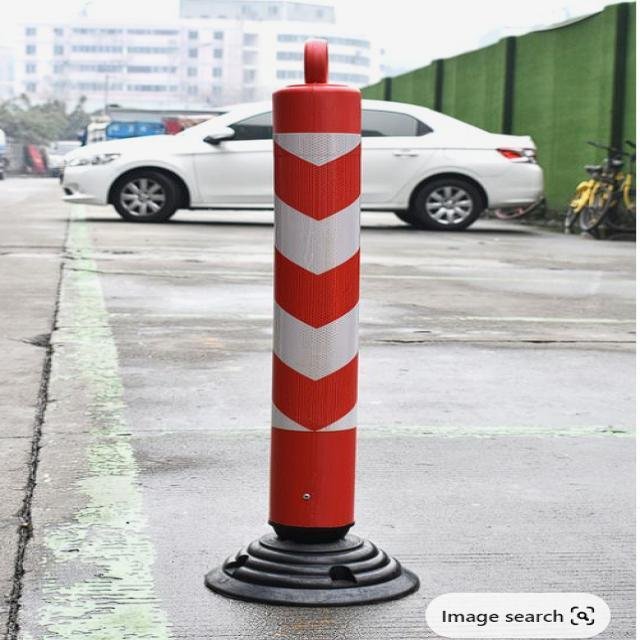Bollard: (270, 35, 360, 537)
